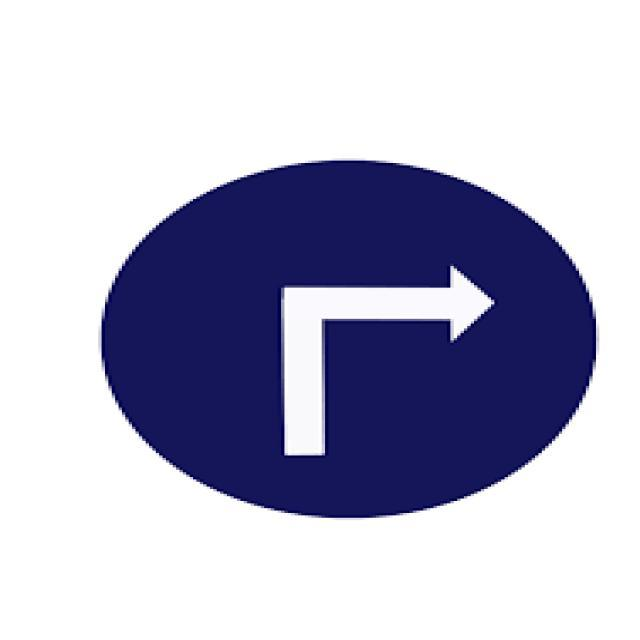compulsary turn right ahead: (99, 158, 602, 520)
